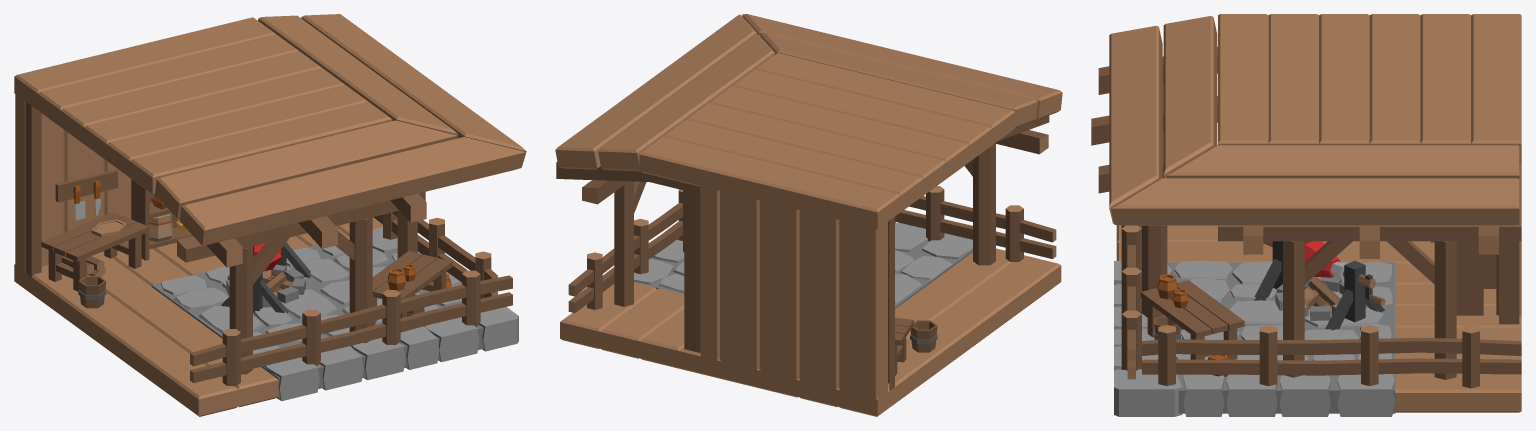
File: Kitchen_Lvl_02_Corner_Right.fbx
3 renders of one model, left to right at view 1: azimuth 30°, elevation 25°; view 2: azimuth 150°, elevation 25°; view 3: azimuth 270°, elevation 25°, orthographic. The views are drawn at different scales.
Visible parts, largest first — view 1: Kitchen_Lvl_02_Corner_Right; view 2: Kitchen_Lvl_02_Corner_Right; view 3: Kitchen_Lvl_02_Corner_Right.
Boxes of the visible parts, box(x1,y1,x2,y2) form: Kitchen_Lvl_02_Corner_Right: box(14, 14, 526, 416); Kitchen_Lvl_02_Corner_Right: box(555, 14, 1062, 416); Kitchen_Lvl_02_Corner_Right: box(1091, 14, 1521, 416).
Bounding box in the file's own units: 8.5 × 5.05 × 8.5.
